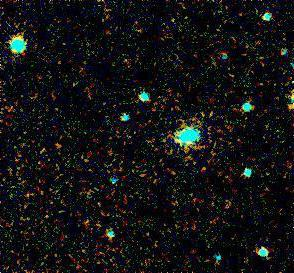star: (216, 189, 246, 219)
